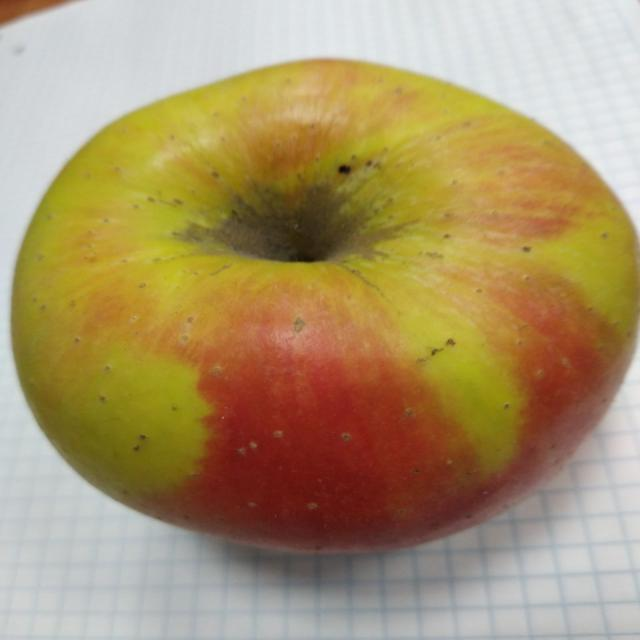Fresh Apple: (50, 72, 640, 530)
